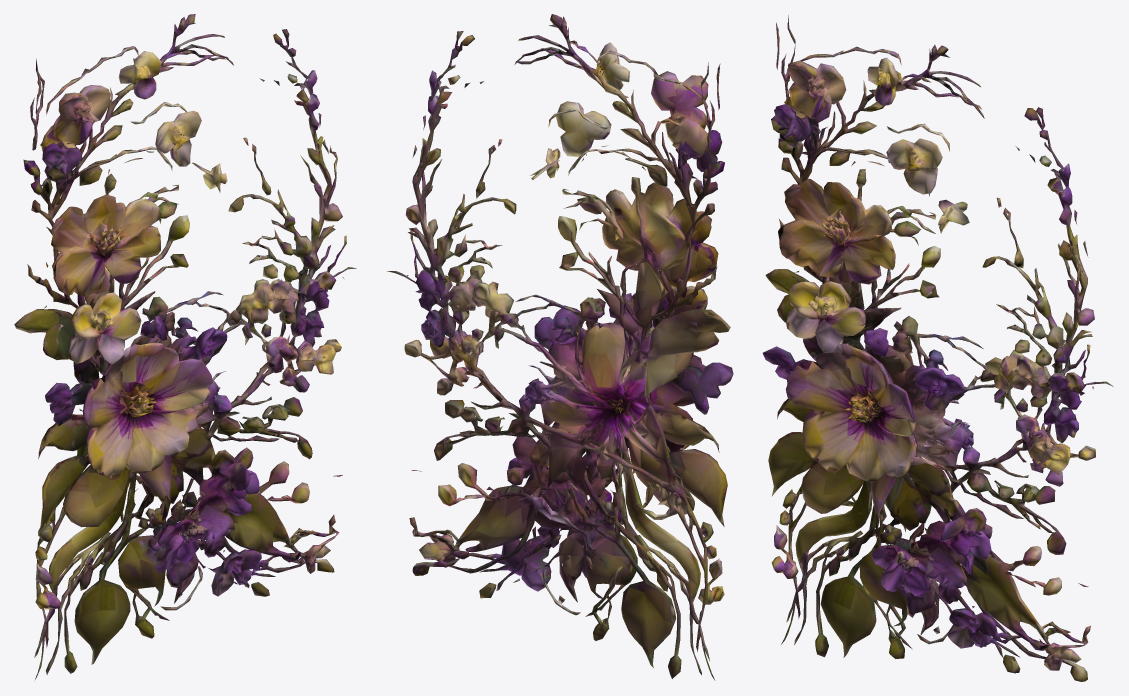
The model's file is 1000054986_jpg.glb.
The picture shows the model from 3 angles, left to right: view 1: azimuth 30°, elevation 25°; view 2: azimuth 150°, elevation 25°; view 3: azimuth 330°, elevation 25°; orthographic projection.
Visible parts, largest first — view 1: 1000054986_jpg; view 2: 1000054986_jpg; view 3: 1000054986_jpg.
Boxes of the visible parts, x1,y1,x2,y2 form: 1000054986_jpg: (14,14,356,679); 1000054986_jpg: (387,14,733,680); 1000054986_jpg: (762,15,1113,681).
Bounding box in the file's own units: 1.09 × 1.92 × 0.2248.
1 material, 1 textured.
